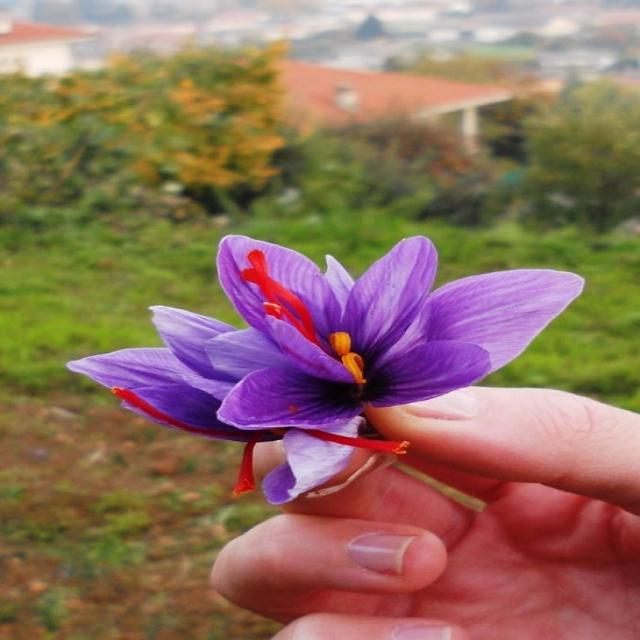saffron open: (68, 235, 582, 504)
